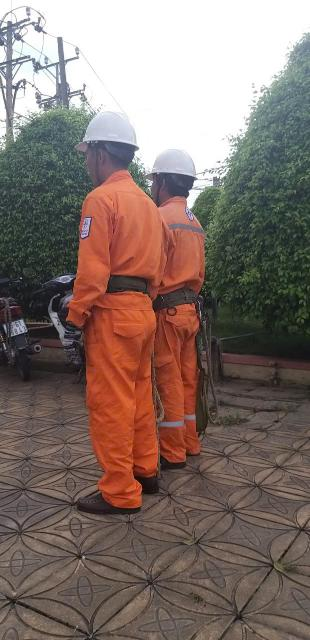gloves: (52, 326, 98, 361)
harness: (89, 268, 169, 313), (146, 274, 206, 317)
helmet: (69, 96, 144, 170), (127, 143, 206, 197)
shoes: (69, 492, 152, 528), (133, 468, 168, 504)
